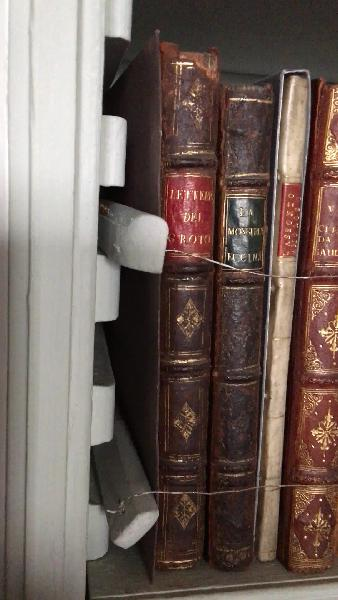Aa6-1: (146, 27, 221, 582)
Aa6-2: (216, 58, 272, 574)
Aa6-3: (250, 53, 314, 580)
Aa6-4: (275, 43, 338, 575)
